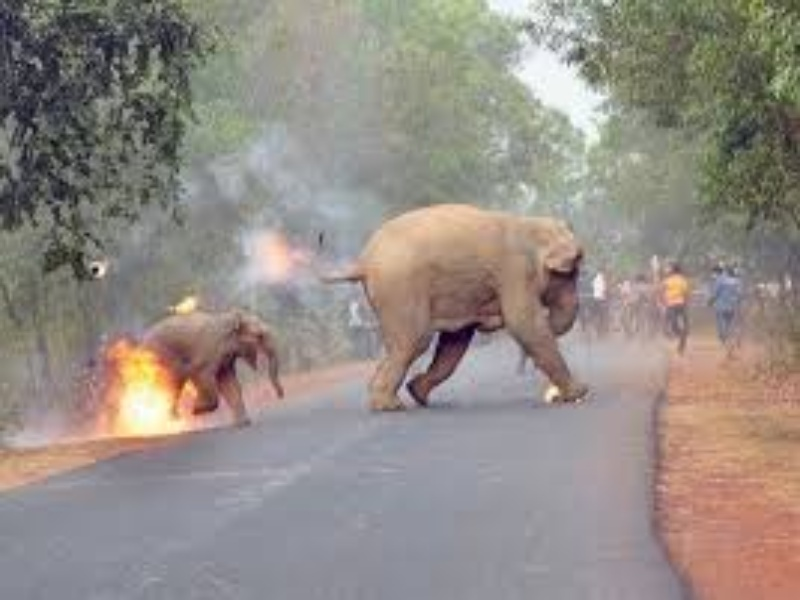elephant: (324, 154, 605, 415), (149, 285, 289, 422)
